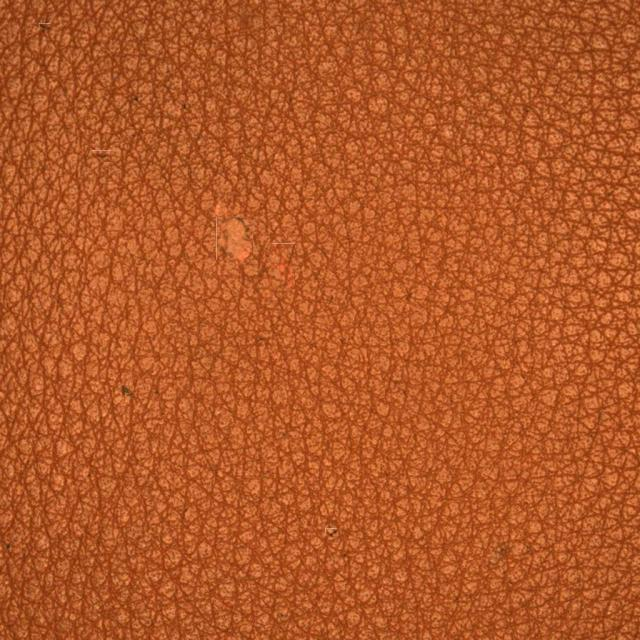Scratch: (181, 165, 300, 325)
pinhole: (33, 96, 173, 210)
